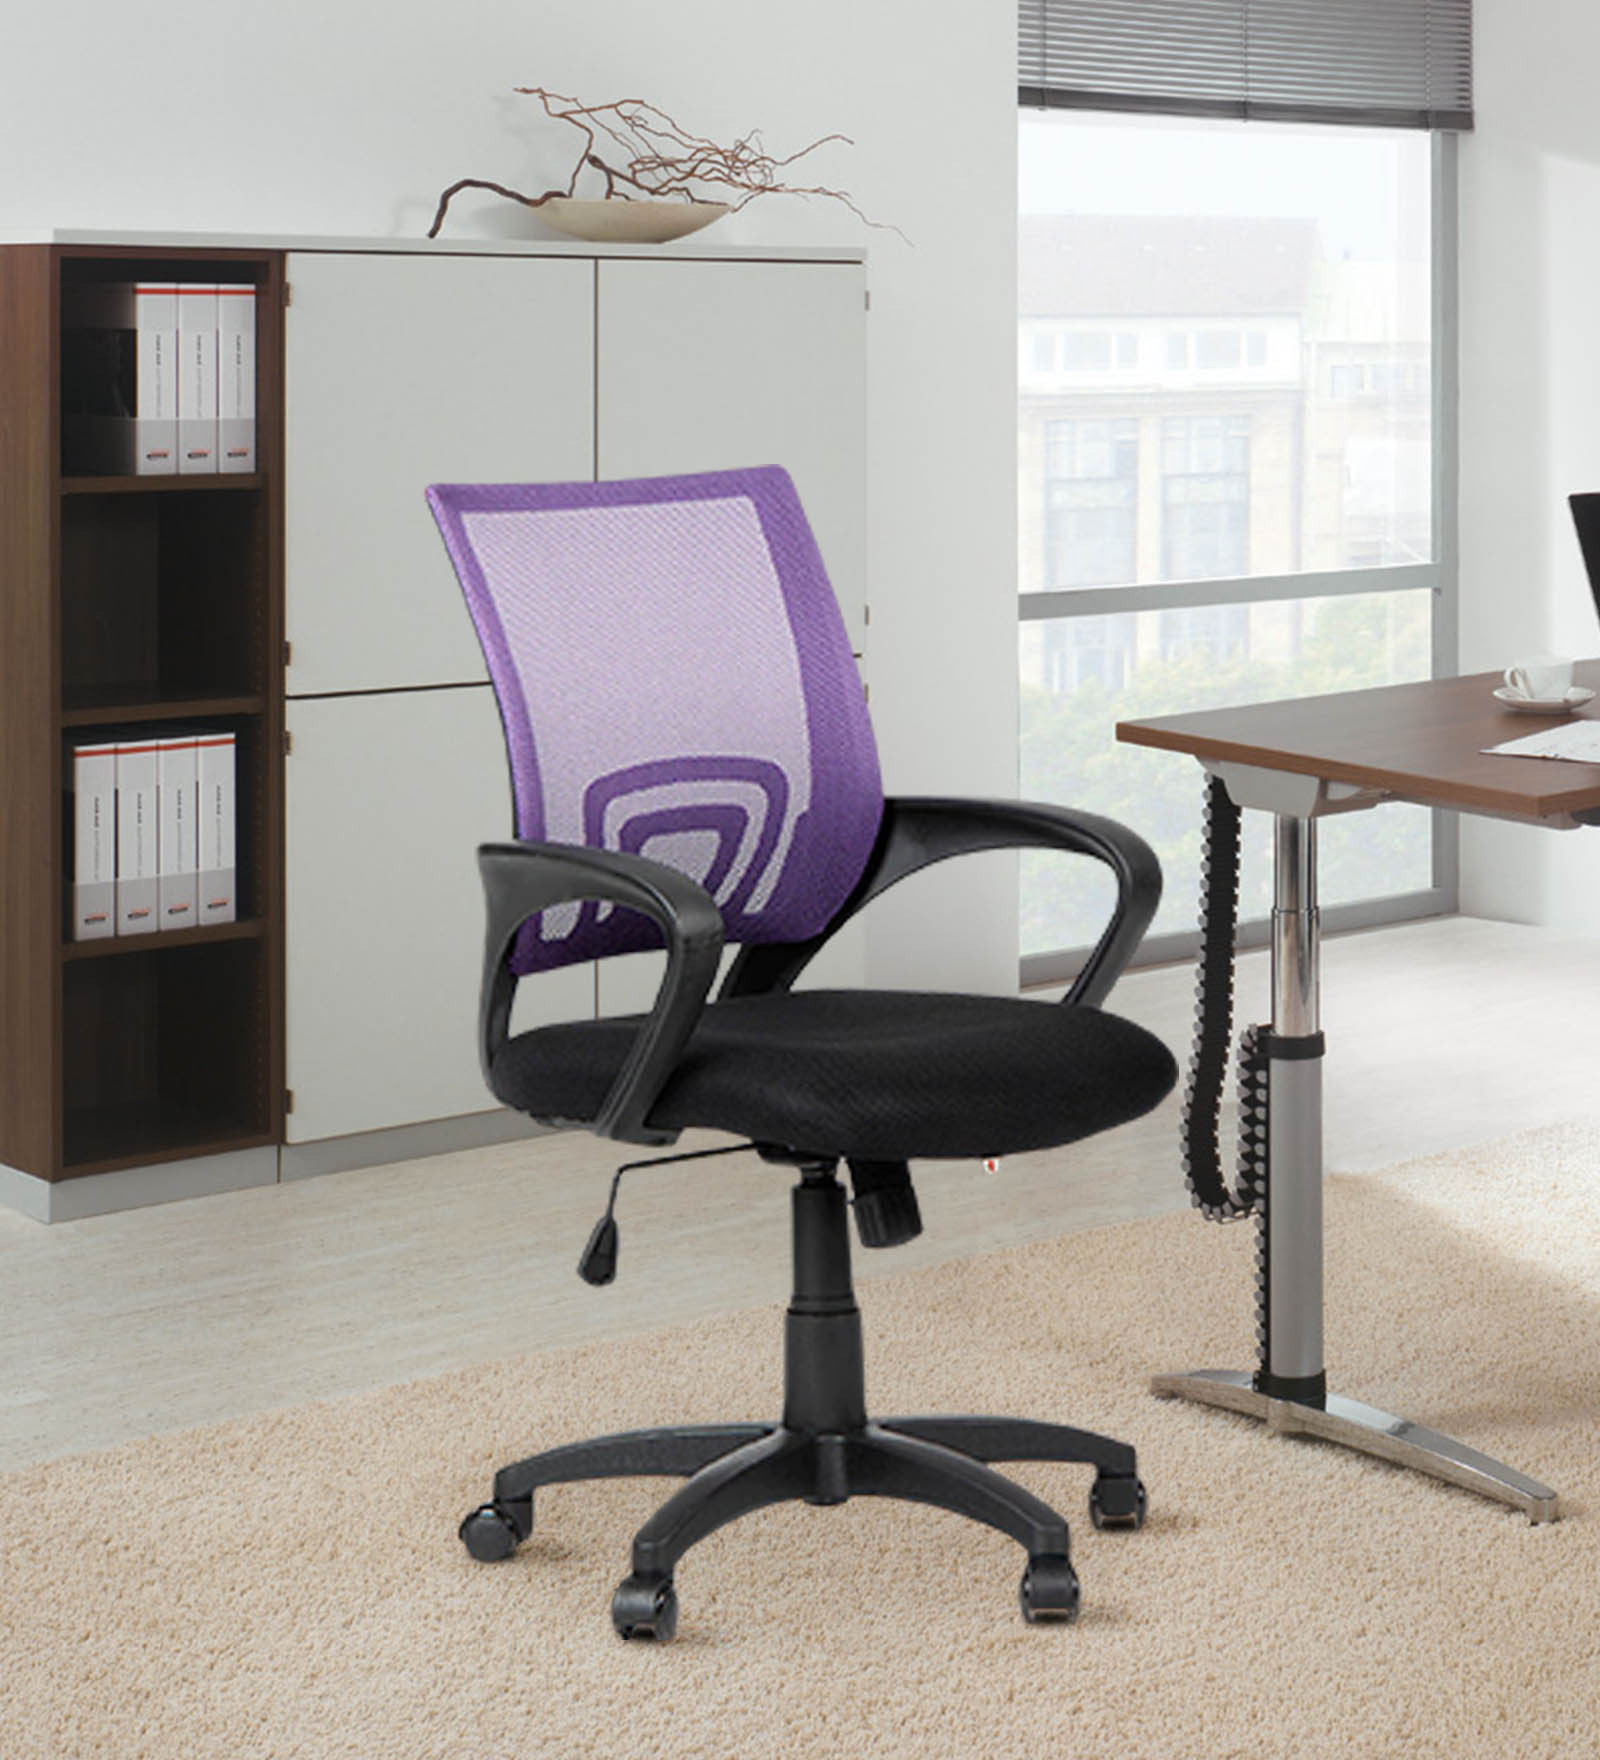Regus Low Back Mesh Chair in purple Colour by Hometown: (377, 385, 1206, 1725)
